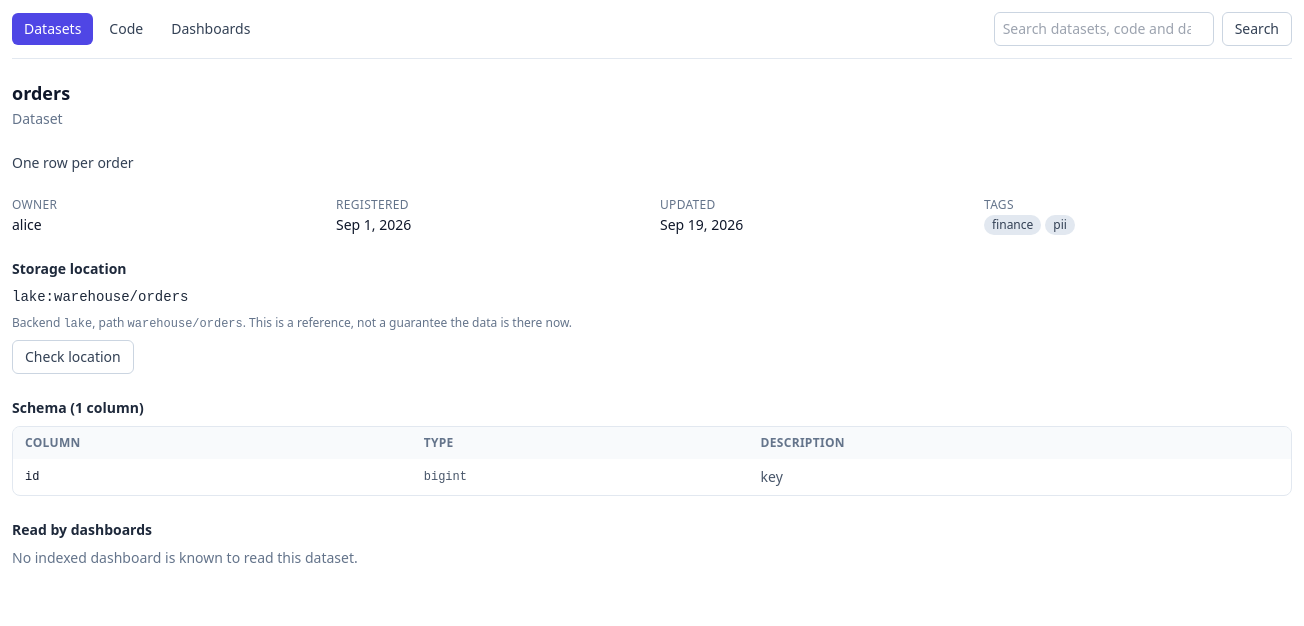
Test case: dataset detail › checks the location live and says plainly when the data isn't there
Expected: the heading "orders" is shown, [12,79,70,107]
Step 1. Click the button "Check location" → (73, 357), box [12,340,134,374]
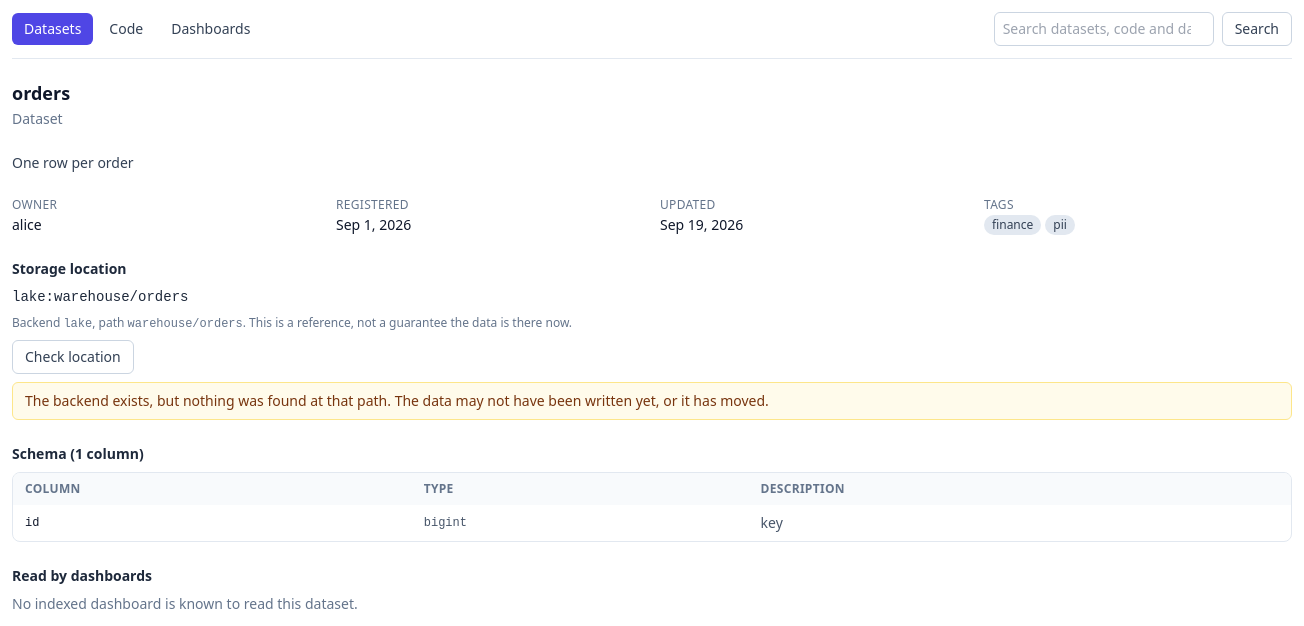
Expected: the text "nothing was found at that path" is shown, [25,391,769,410]
